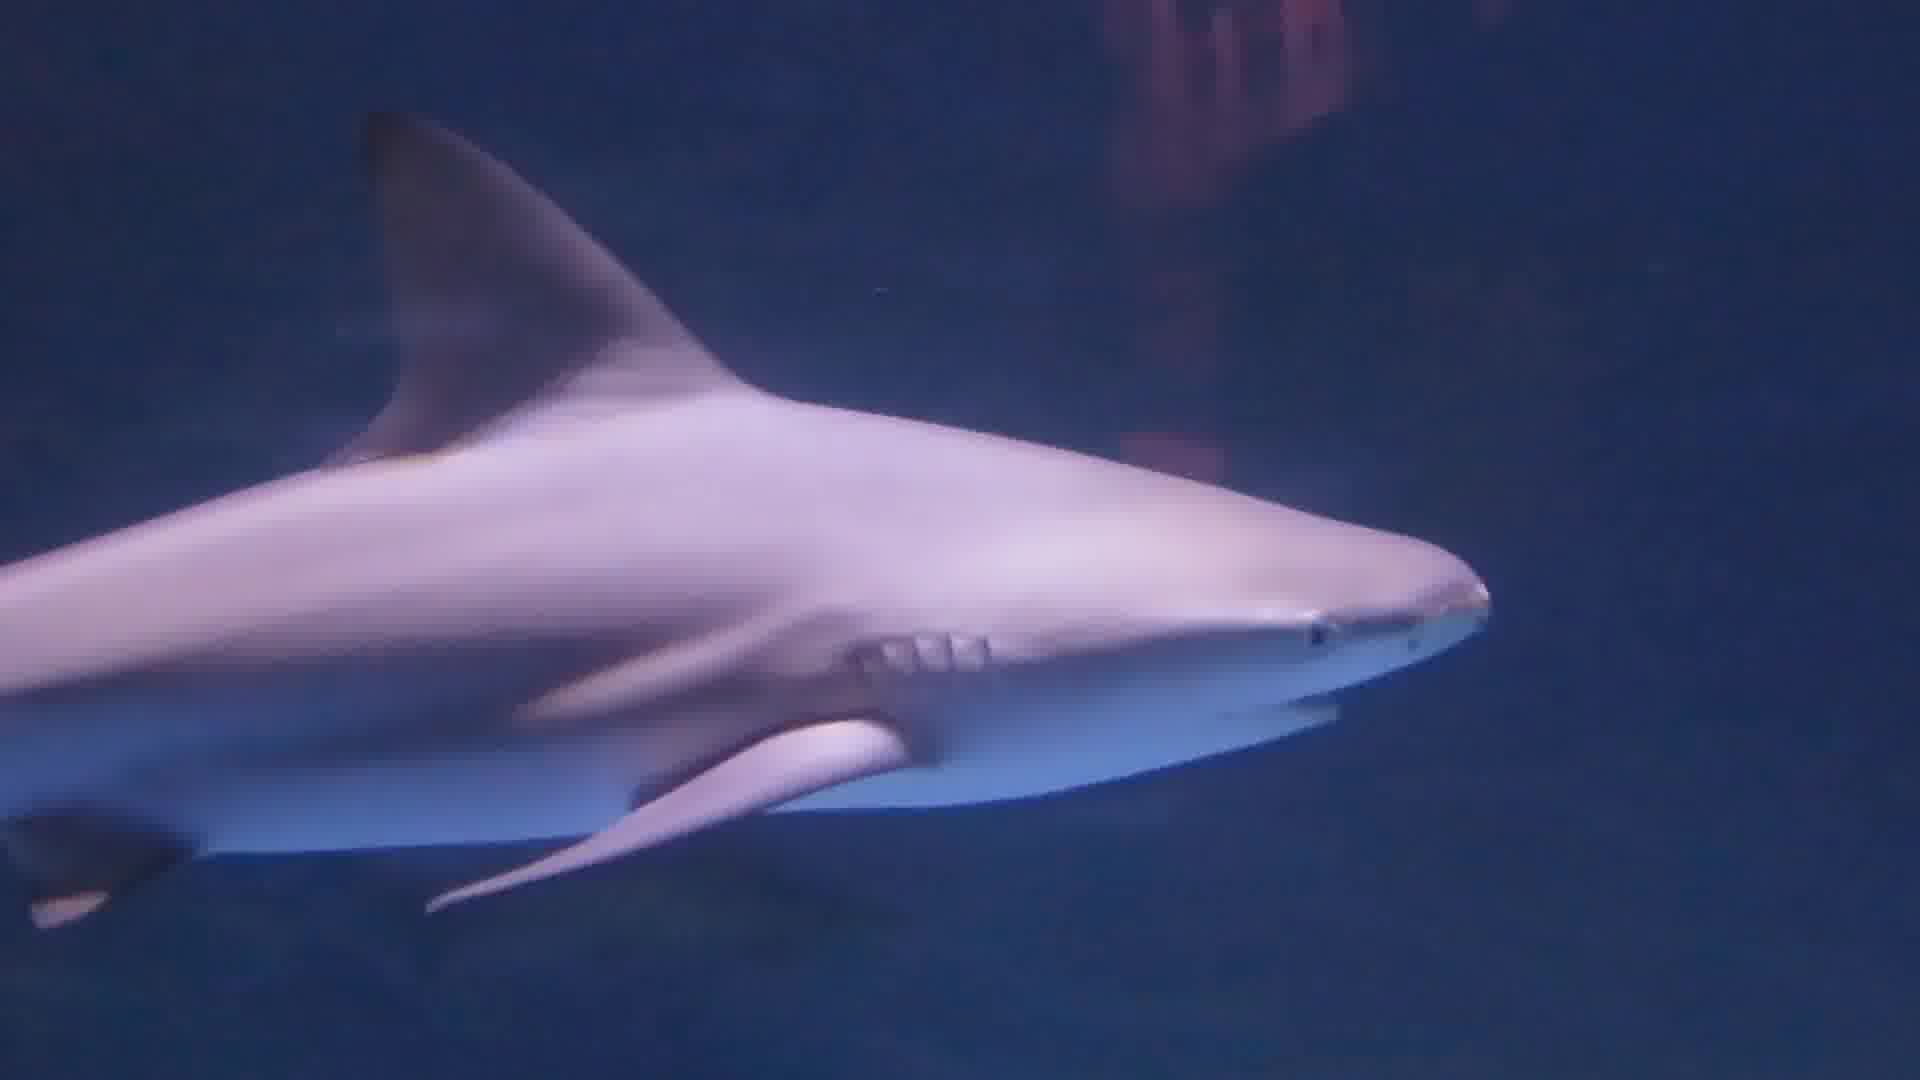Carcharhinus leucas: (1, 40, 1542, 1014)
